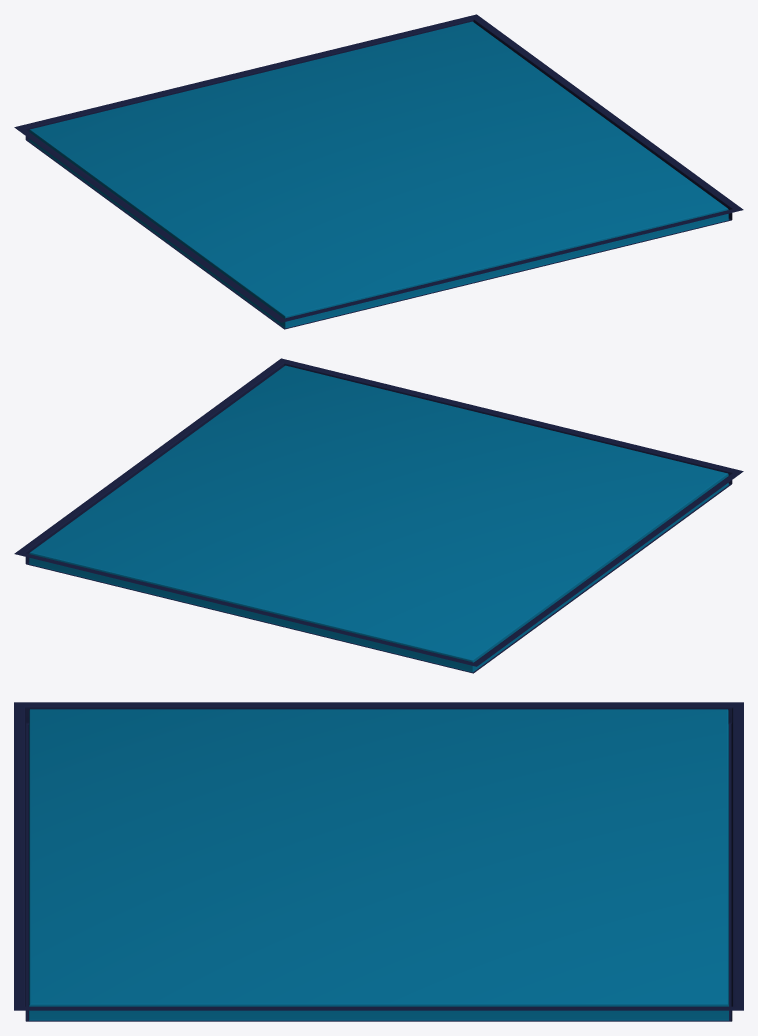
Rendered from track_piece.fbx.
The picture shows the model from 3 angles, top to bottom: view 1: azimuth 30°, elevation 25°; view 2: azimuth 150°, elevation 25°; view 3: azimuth 270°, elevation 25°; orthographic projection. The views are drawn at different scales.
Visible parts, largest first — view 1: piece; view 2: piece; view 3: piece.
Boxes of the visible parts, x1,y1,x2,y2 form: piece: [14, 14, 743, 329]; piece: [14, 358, 743, 673]; piece: [14, 702, 743, 1021].
Size of the model in its own units: 200 by 200 by 5.06.
